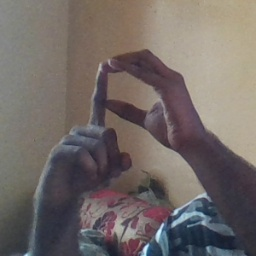P: (38, 46, 201, 189)
